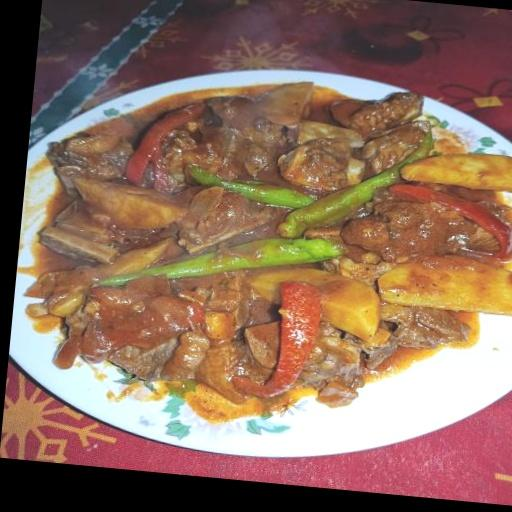pork caldereta: (24, 78, 511, 406)
